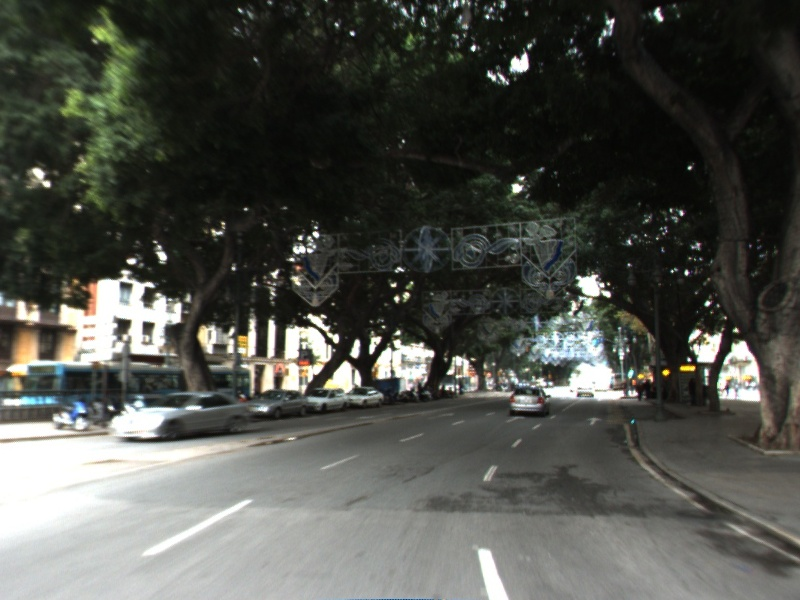STRAIGHT: (584, 415, 605, 428), (503, 414, 527, 425)
